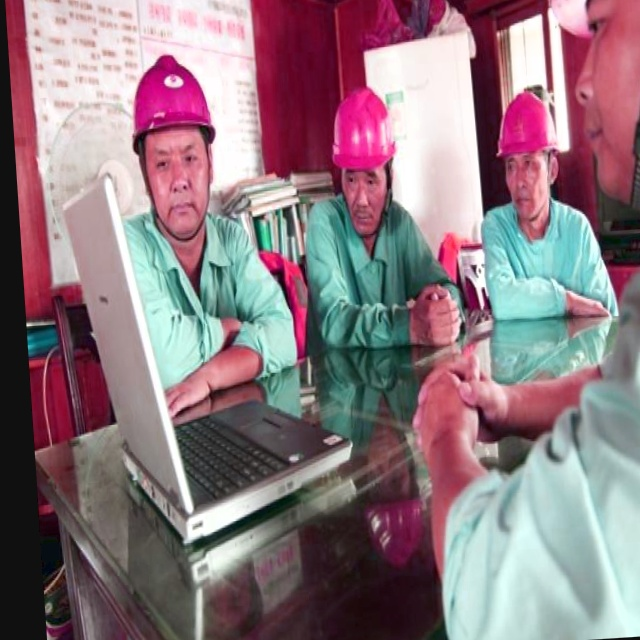Con_Casco: (326, 84, 401, 238), (492, 88, 566, 222)
